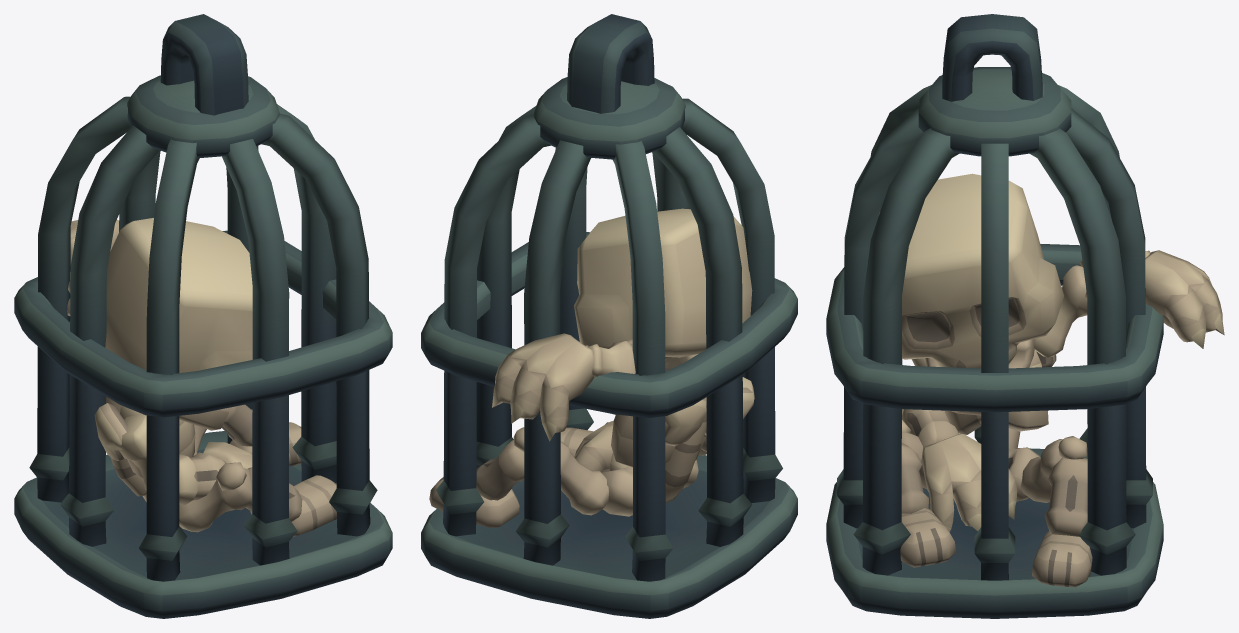
Rendered from cage_w_skeleton.fbx.
The picture shows the model from 3 angles, left to right: view 1: azimuth 30°, elevation 25°; view 2: azimuth 150°, elevation 25°; view 3: azimuth 270°, elevation 25°; orthographic projection. The views are drawn at different scales.
Visible parts, largest first — view 1: cage_w_skeleton; view 2: cage_w_skeleton; view 3: cage_w_skeleton.
Boxes of the visible parts, left/top/right/bottom form: cage_w_skeleton: left=14, top=14, right=392, bottom=618; cage_w_skeleton: left=421, top=14, right=797, bottom=618; cage_w_skeleton: left=826, top=14, right=1224, bottom=618.
Size of the model in its own units: 104 by 180 by 123.
1 material, 1 textured.
